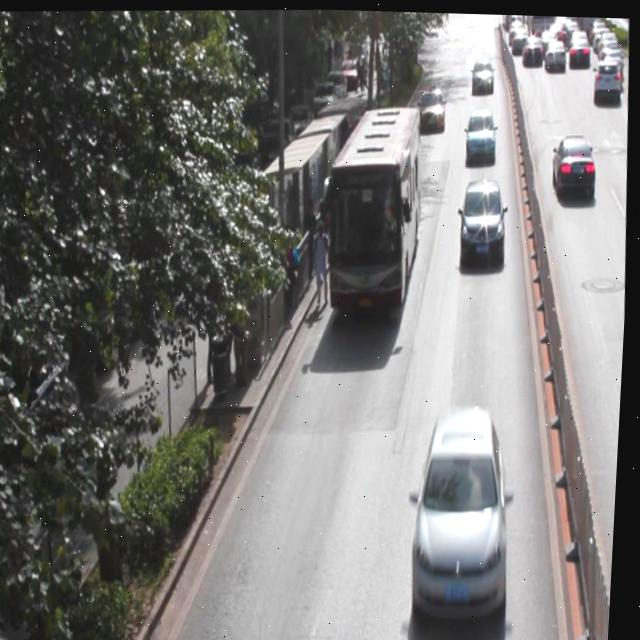car: (409, 395, 520, 617), (460, 175, 508, 253), (549, 130, 598, 195), (463, 105, 498, 157), (416, 84, 446, 127)
van: (321, 101, 425, 309)
